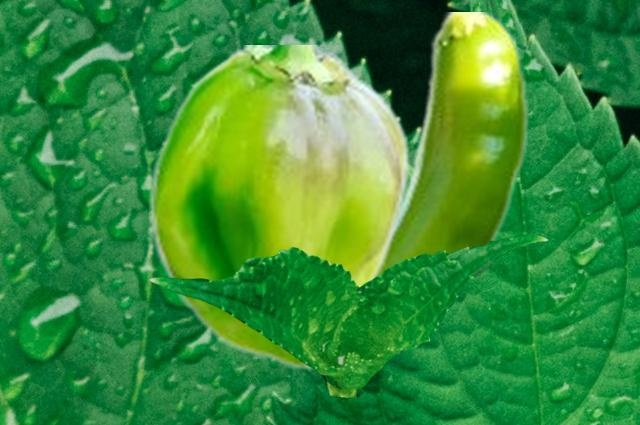green_chili: (149, 45, 410, 370), (385, 12, 529, 294)
